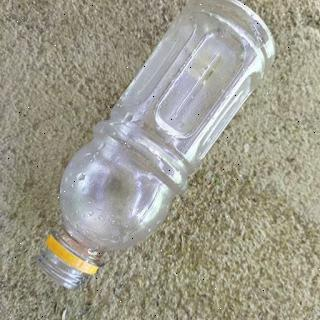Plastic-bottle: (38, 1, 279, 292)
